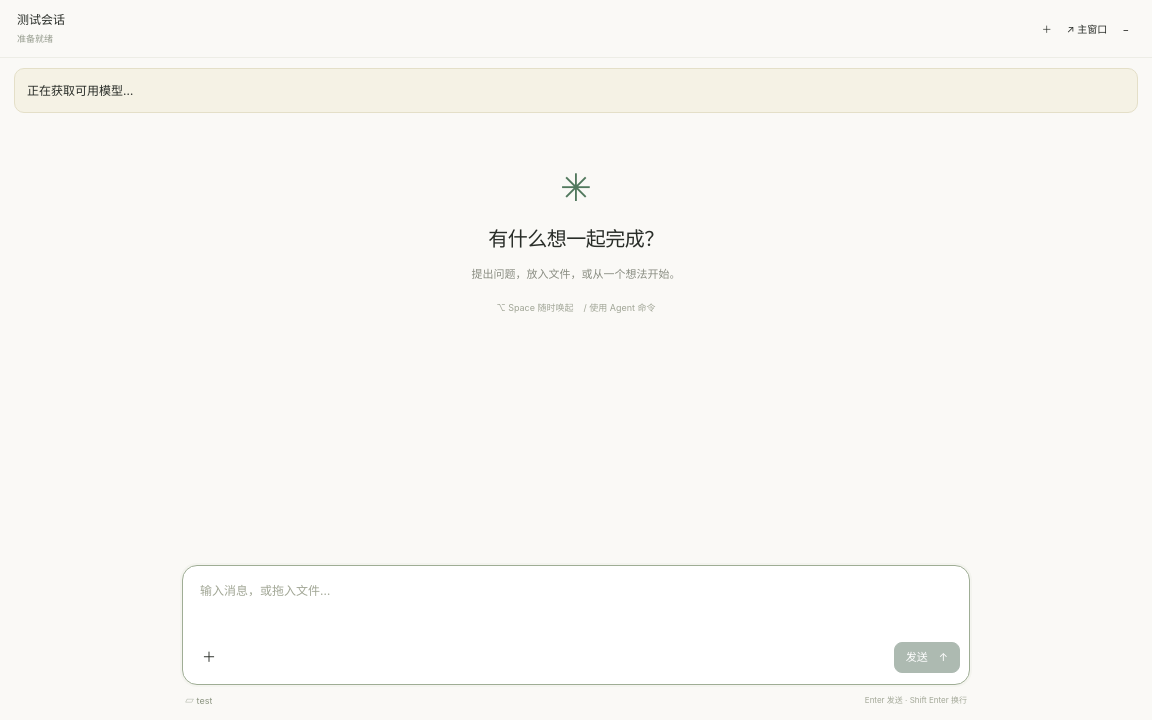
Test: 桌面对话交互 › 事件更新不覆盖正在编辑的本地草稿，也不接受旧快照
Expected: the text "测试会话" is shown, [17,10,65,29]
Step 1. Type "我的本地草稿" into the text box labelled "消息" → (576, 600), box [183,566,969,634]
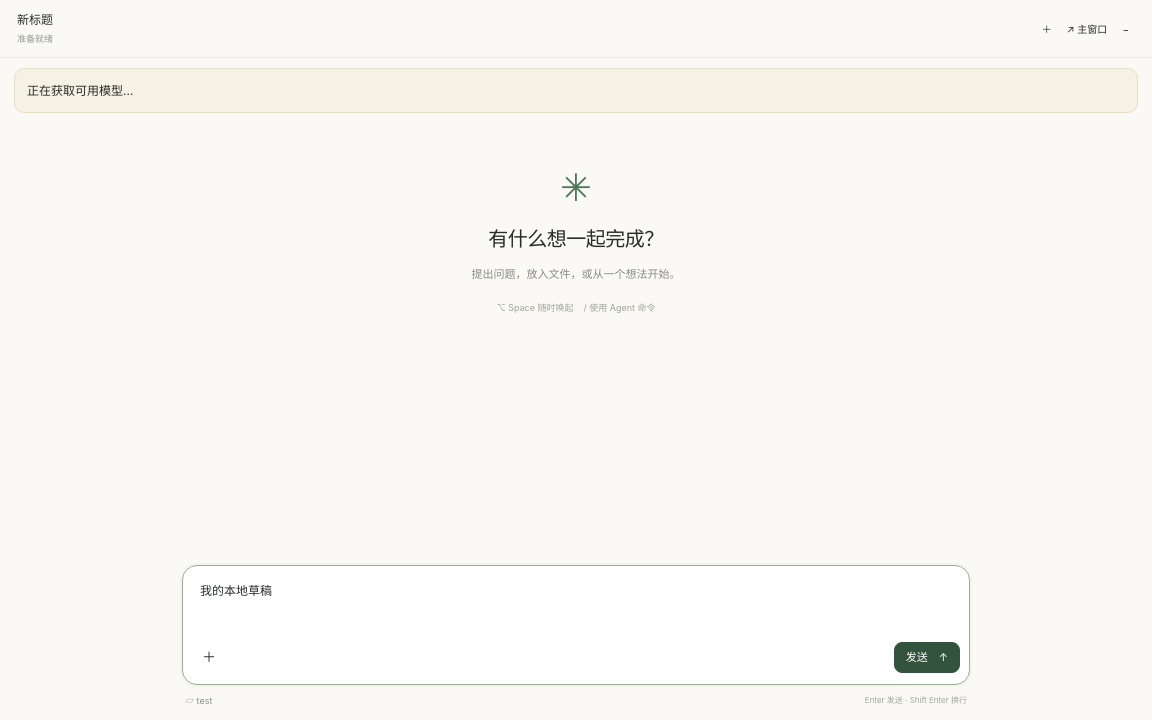
Expected: the text "新标题" is shown, [17,10,53,29]
